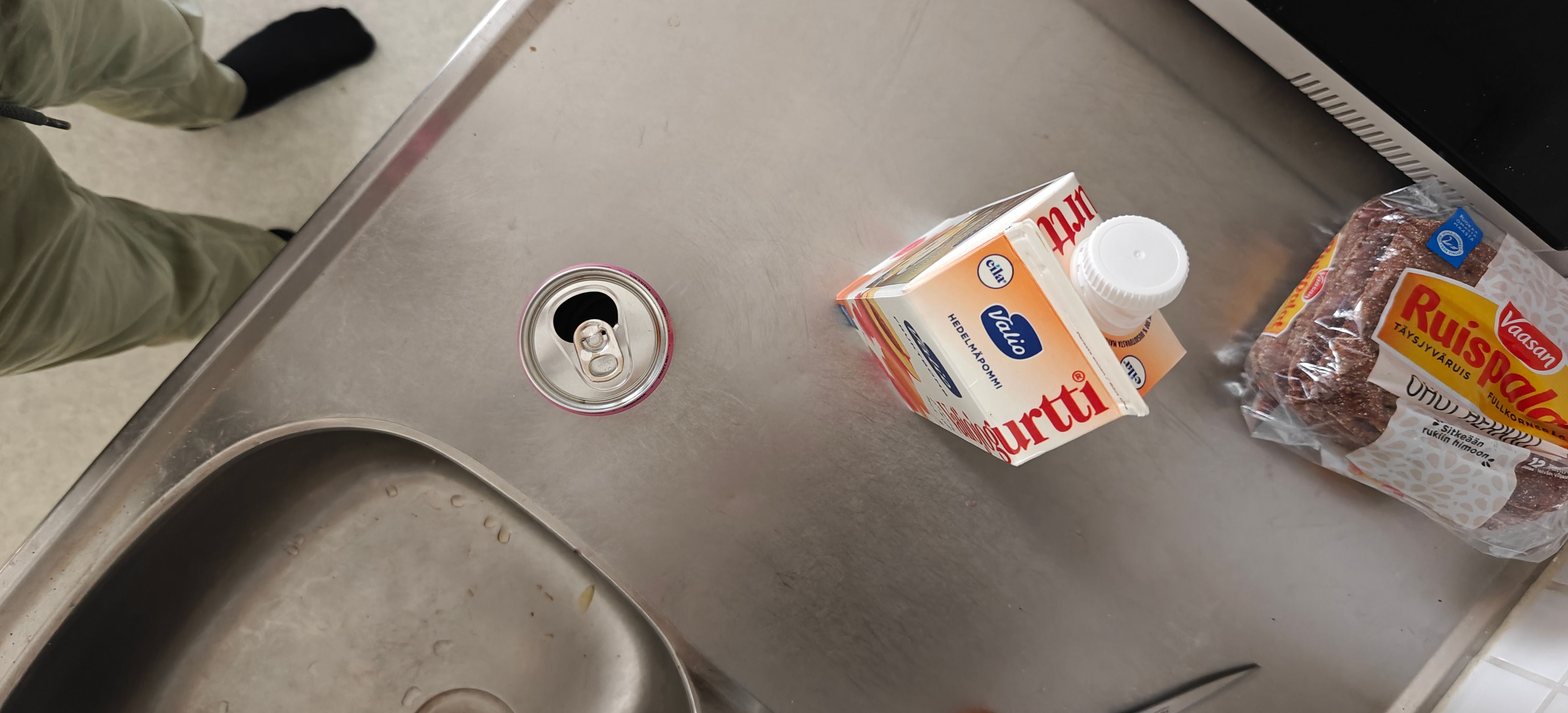Dryckeskartong: (837, 172, 1190, 466)
Pantburk: (517, 263, 674, 415)
